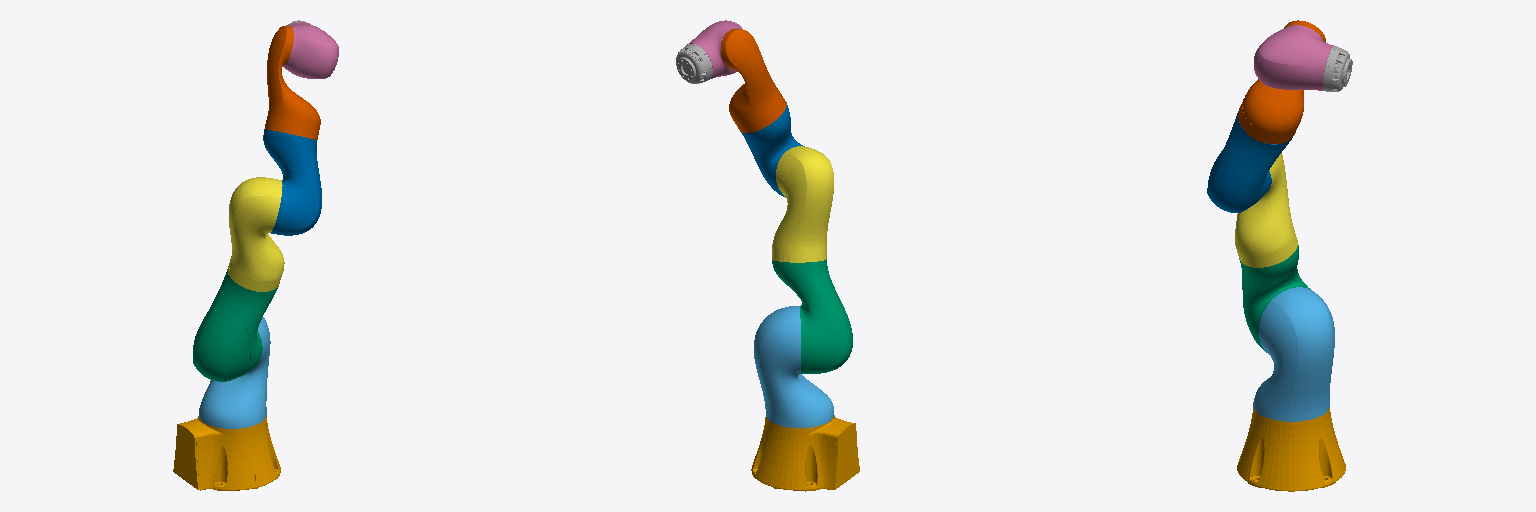
The robot description file, URDF, robot "iiwa_14_6DOF_gripper":
<?xml version="1.0" encoding="UTF-8"?>
<robot name="iiwa_14_6DOF_gripper">
  <joint name="iiwa_joint_1" type="revolute">
    <origin xyz="0. 0. 0.1575" rpy="0. 0. 0."/>
    <parent link="world"/>
    <child link="iiwa_link_1"/>
    <axis xyz="0. 0. 1."/>
    <limit lower="-2.9670597" upper="2.9670595" effort="300." velocity="9.9999995"/>
  </joint>
  <joint name="iiwa_joint_2" type="revolute">
    <origin xyz="0. -0. 0.2024999" rpy="1.5707963 0.0000002 -1.0227611"/>
    <parent link="iiwa_link_1"/>
    <child link="iiwa_link_2"/>
    <axis xyz="0. 0. 1."/>
    <limit lower="-2.0943951" upper="2.0943951" effort="300." velocity="9.9999995"/>
  </joint>
  <joint name="iiwa_joint_3" type="revolute">
    <origin xyz="0.0601311 0.1954597 -0. " rpy="1.5707964 -0.0000001 2.8431423"/>
    <parent link="iiwa_link_2"/>
    <child link="iiwa_link_3"/>
    <axis xyz="0. 0. 1."/>
    <limit lower="-2.9670595" upper="2.9670595" effort="300." velocity="9.9999995"/>
  </joint>
  <joint name="iiwa_joint_4" type="revolute">
    <origin xyz="-0. 0. 0.2155" rpy="1.5707963 -0.0000001 -1.0402163"/>
    <parent link="iiwa_link_3"/>
    <child link="iiwa_link_4"/>
    <axis xyz="0. 0. 1."/>
    <limit lower="-2.0943951" upper="2.0943951" effort="300." velocity="9.9999995"/>
  </joint>
  <joint name="iiwa_joint_5" type="revolute">
    <origin xyz="0.1042364 0.1522334 -0. " rpy="1.5707965 0. 2.5411994"/>
    <parent link="iiwa_link_4"/>
    <child link="iiwa_link_5"/>
    <axis xyz="0. 0. 1."/>
    <limit lower="-2.9670595" upper="2.9670595" effort="300." velocity="9.9999995"/>
  </joint>
  <joint name="iiwa_joint_6" type="revolute">
    <origin xyz="0.0000001 0.0000001 0.2155 " rpy="1.5707964 -0.0000003 -2.9670591"/>
    <parent link="iiwa_link_5"/>
    <child link="iiwa_link_6"/>
    <axis xyz="0. 0. 1."/>
    <limit lower="-2.0943951" upper="2.0943951" effort="300." velocity="9.9999995"/>
  </joint>
  <joint name="iiwa_joint_7" type="revolute">
    <origin xyz="0.0781291 0.0213737 -0. " rpy="1.5707964 0.0000002 1.837832 "/>
    <parent link="iiwa_link_6"/>
    <child link="iiwa_link_7"/>
    <axis xyz="0. 0. 1."/>
    <limit lower="0." upper="0." effort="300." velocity="9.9999995"/>
  </joint>
  <joint name="root_joint" type="fixed">
    <origin xyz="0. -0. 0." rpy="0. 0. 0."/>
    <parent link="iiwa14"/>
    <child link="world"/>
  </joint>
  <link name="iiwa14"/>
  <link name="iiwa_link_1">
    <inertial>
      <origin xyz="0. -0.03 0.12" rpy="0. 0. 0."/>
      <mass value="4."/>
      <inertia ixx="0.1" ixy="0." ixz="0." iyy="0.09" iyz="0." izz="0.02"/>
    </inertial>
    <visual>
      <origin xyz="-0. 0. -0.0000001" rpy="0.0000001 -0.0000002 2.1188314"/>
      <geometry>
        <mesh filename="meshes/iiwa_link_1_visuals_link_1_mesh.obj" scale="1. 1. 1."/>
      </geometry>
    </visual>
    <visual>
      <origin xyz="-0. 0. -0.0000001" rpy="0.0000001 -0.0000002 2.1188314"/>
      <geometry>
        <mesh filename="meshes/iiwa_link_1_collisions_link_1_mesh.obj" scale="1. 1. 1."/>
      </geometry>
    </visual>
  </link>
  <link name="iiwa_link_2">
    <inertial>
      <origin xyz="0.0003 0.059 0.042 " rpy="0. 0. 0."/>
      <mass value="4."/>
      <inertia ixx="0.05" ixy="0." ixz="0." iyy="0.018" iyz="0." izz="0.044"/>
    </inertial>
    <visual>
      <origin xyz="0. -0. 0." rpy="-0. 0.0000001 -0.2984506"/>
      <geometry>
        <mesh filename="meshes/iiwa_link_2_visuals_link_2_mesh.obj" scale="1. 1. 1."/>
      </geometry>
    </visual>
    <visual>
      <origin xyz="0. -0. 0." rpy="-0. 0.0000001 -0.2984506"/>
      <geometry>
        <mesh filename="meshes/iiwa_link_2_collisions_link_2_mesh.obj" scale="1. 1. 1."/>
      </geometry>
    </visual>
  </link>
  <link name="iiwa_link_3">
    <inertial>
      <origin xyz="0. 0.03 0.13" rpy="0. 0. 0."/>
      <mass value="3."/>
      <inertia ixx="0.08" ixy="0." ixz="0." iyy="0.075" iyz="0." izz="0.01"/>
    </inertial>
    <visual>
      <origin xyz="-0. 0. -0." rpy="-0.0000001 -0.0000001 -1.0402163"/>
      <geometry>
        <mesh filename="meshes/iiwa_link_3_visuals_link_3_mesh.obj" scale="1. 1. 1."/>
      </geometry>
    </visual>
    <visual>
      <origin xyz="-0. 0. -0." rpy="-0.0000001 -0.0000001 -1.0402163"/>
      <geometry>
        <mesh filename="meshes/iiwa_link_3_collisions_link_3_mesh.obj" scale="1. 1. 1."/>
      </geometry>
    </visual>
  </link>
  <link name="iiwa_link_4">
    <inertial>
      <origin xyz="0. 0.067 0.034" rpy="0. 0. 0."/>
      <mass value="2.7"/>
      <inertia ixx="0.03" ixy="0." ixz="0." iyy="0.01" iyz="0." izz="0.029"/>
    </inertial>
    <visual>
      <origin xyz="-0. -0. -0." rpy="-0.0000001 -0.0000001 -0.6003933"/>
      <geometry>
        <mesh filename="meshes/iiwa_link_4_visuals_link_4_mesh.obj" scale="1. 1. 1."/>
      </geometry>
    </visual>
    <visual>
      <origin xyz="-0. -0. -0." rpy="-0.0000001 -0.0000001 -0.6003933"/>
      <geometry>
        <mesh filename="meshes/iiwa_link_4_collisions_link_4_mesh.obj" scale="1. 1. 1."/>
      </geometry>
    </visual>
  </link>
  <link name="iiwa_link_5">
    <inertial>
      <origin xyz="0.0001 0.021 0.076 " rpy="0. 0. 0."/>
      <mass value="1.7"/>
      <inertia ixx="0.02" ixy="0." ixz="0." iyy="0.018" iyz="0." izz="0.005"/>
    </inertial>
    <visual>
      <origin xyz="0. 0. -0." rpy="0.0000001 -0.0000003 -2.9670591"/>
      <geometry>
        <mesh filename="meshes/iiwa_link_5_visuals_link_5_mesh.obj" scale="1. 1. 1."/>
      </geometry>
    </visual>
    <visual>
      <origin xyz="0. 0. -0." rpy="0.0000001 -0.0000003 -2.9670591"/>
      <geometry>
        <mesh filename="meshes/iiwa_link_5_collisions_link_5_mesh.obj" scale="1. 1. 1."/>
      </geometry>
    </visual>
  </link>
  <link name="iiwa_link_6">
    <inertial>
      <origin xyz="0. 0.0006 0.0004" rpy="0. 0. 0."/>
      <mass value="1.8"/>
      <inertia ixx="0.005" ixy="0." ixz="0." iyy="0.0036" iyz="0." izz="0.0047"/>
    </inertial>
    <visual>
      <origin xyz="-0. -0. -0." rpy="-0.0000001 -0.0000003 -1.3037606"/>
      <geometry>
        <mesh filename="meshes/iiwa_link_6_visuals_link_6_mesh.obj" scale="1. 1. 1."/>
      </geometry>
    </visual>
    <visual>
      <origin xyz="-0. -0. -0." rpy="-0.0000001 -0.0000003 -1.3037606"/>
      <geometry>
        <mesh filename="meshes/iiwa_link_6_collisions_link_6_mesh.obj" scale="1. 1. 1."/>
      </geometry>
    </visual>
  </link>
  <link name="iiwa_link_7">
    <inertial>
      <origin xyz="0. 0. 0.02" rpy="0. 0. 0."/>
      <mass value="0.3"/>
      <inertia ixx="0.001" ixy="0." ixz="0." iyy="0.001" iyz="0." izz="0.001"/>
    </inertial>
    <visual>
      <origin xyz="-0. -0. -0." rpy="0. 0. 0."/>
      <geometry>
        <mesh filename="meshes/iiwa_link_7_visuals_link_7_mesh.obj" scale="1. 1. 1."/>
      </geometry>
    </visual>
    <visual>
      <origin xyz="-0. -0. -0." rpy="0. 0. 0."/>
      <geometry>
        <mesh filename="meshes/iiwa_link_7_collisions_link_7_mesh.obj" scale="1. 1. 1."/>
      </geometry>
    </visual>
  </link>
  <link name="world">
    <inertial>
      <origin xyz="-0.1 0. 0.07" rpy="0. 0. 0."/>
      <mass value="5."/>
      <inertia ixx="0.05" ixy="0." ixz="0." iyy="0.06" iyz="0." izz="0.03"/>
    </inertial>
    <visual>
      <origin xyz="0. 0. 0." rpy="0. 0. 0."/>
      <geometry>
        <mesh filename="meshes/world_visuals_link_0_mesh.obj" scale="1. 1. 1."/>
      </geometry>
    </visual>
    <visual>
      <origin xyz="0. 0. 0." rpy="0. 0. 0."/>
      <geometry>
        <mesh filename="meshes/world_collisions_link_0_mesh.obj" scale="1. 1. 1."/>
      </geometry>
    </visual>
  </link>
</robot>

--- Render facts (derived) ---
3 views of the same robot in one strip: view 1: azimuth 30°, elevation 25°; view 2: azimuth 150°, elevation 25°; view 3: azimuth 270°, elevation 25° (orthographic).
Robot: iiwa_14_6DOF_gripper — 9 links, 8 joints (7 revolute, 1 fixed); root link iiwa14; default pose: all joints at 0.
Links seen in each view (by area): view 1: world, iiwa_link_2, iiwa_link_3, iiwa_link_4, iiwa_link_1, iiwa_link_5, iiwa_link_6; view 2: world, iiwa_link_1, iiwa_link_3, iiwa_link_2, iiwa_link_5, iiwa_link_4, iiwa_link_6, iiwa_link_7; view 3: iiwa_link_1, world, iiwa_link_4, iiwa_link_3, iiwa_link_6, iiwa_link_5, iiwa_link_2, iiwa_link_7.
Boxes of the visible links, left/top/right/bottom form: world: left=173, top=416, right=280, bottom=490; iiwa_link_2: left=193, top=269, right=278, bottom=381; iiwa_link_3: left=227, top=177, right=284, bottom=291; iiwa_link_4: left=263, top=129, right=321, bottom=235; iiwa_link_1: left=199, top=317, right=270, bottom=428; iiwa_link_5: left=265, top=26, right=320, bottom=139; iiwa_link_6: left=282, top=22, right=338, bottom=78; world: left=751, top=415, right=859, bottom=491; iiwa_link_1: left=754, top=306, right=833, bottom=427; iiwa_link_3: left=772, top=146, right=833, bottom=262; iiwa_link_2: left=772, top=259, right=852, bottom=373; iiwa_link_5: left=721, top=29, right=786, bottom=132; iiwa_link_4: left=740, top=102, right=804, bottom=197; iiwa_link_6: left=687, top=20, right=741, bottom=78; iiwa_link_7: left=676, top=44, right=712, bottom=83; iiwa_link_1: left=1253, top=287, right=1334, bottom=421; world: left=1237, top=407, right=1345, bottom=491; iiwa_link_4: left=1207, top=111, right=1292, bottom=212; iiwa_link_3: left=1221, top=150, right=1297, bottom=267; iiwa_link_6: left=1254, top=25, right=1333, bottom=90; iiwa_link_5: left=1238, top=20, right=1325, bottom=143; iiwa_link_2: left=1239, top=245, right=1310, bottom=352; iiwa_link_7: left=1323, top=46, right=1352, bottom=91.
Size in the robot's own frame: 0.4343 by 0.3236 by 1.18 metres.
Meshes: 16 distinct files referenced, 15 mesh visuals loaded (15 OBJ); not drawn: 1 (reference not matched to a file when rendering).
